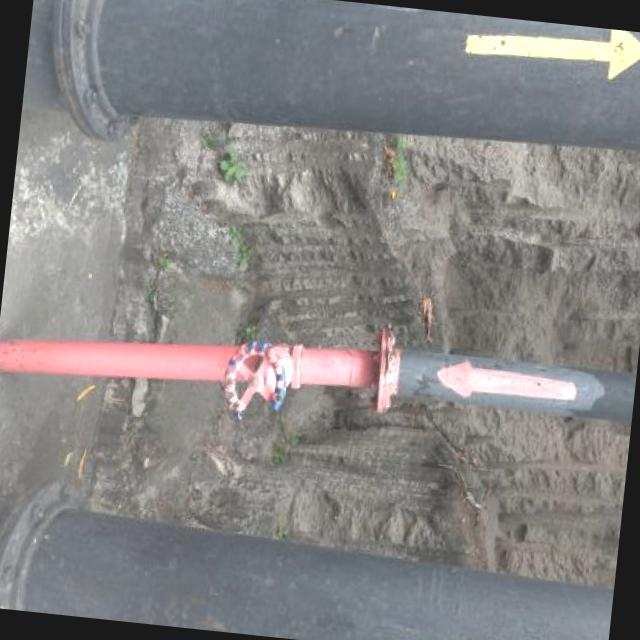gas: (21, 0, 640, 146), (2, 500, 613, 640), (0, 336, 636, 419)
